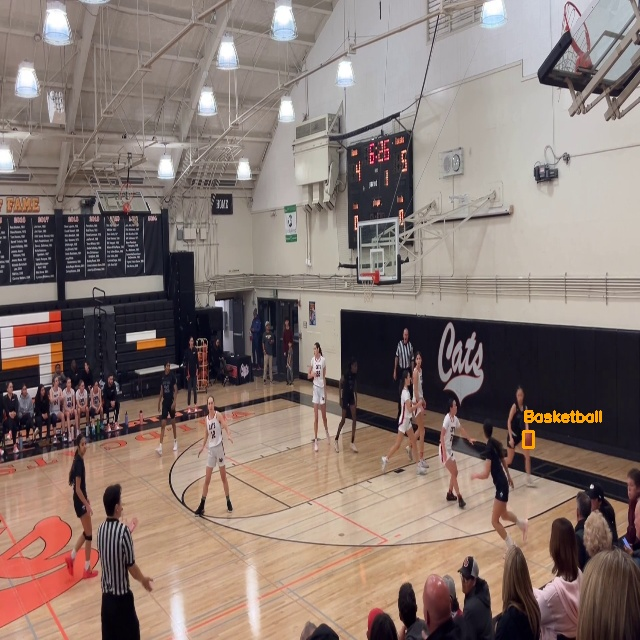Basketball: (523, 431, 533, 447)
